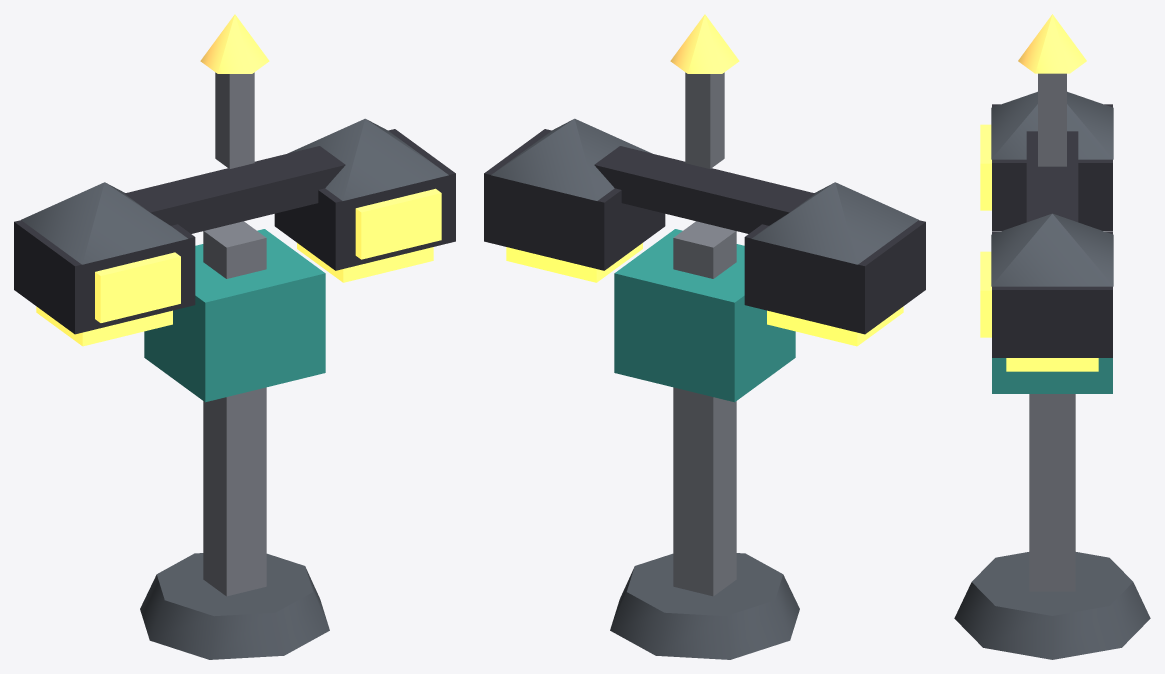
The model's file is scene__relayLamp.glb.
The picture shows the model from 3 angles, left to right: view 1: azimuth 30°, elevation 25°; view 2: azimuth 150°, elevation 25°; view 3: azimuth 270°, elevation 25°; orthographic projection.
Size of the model in its own units: 1.52 by 2.31 by 0.68.
